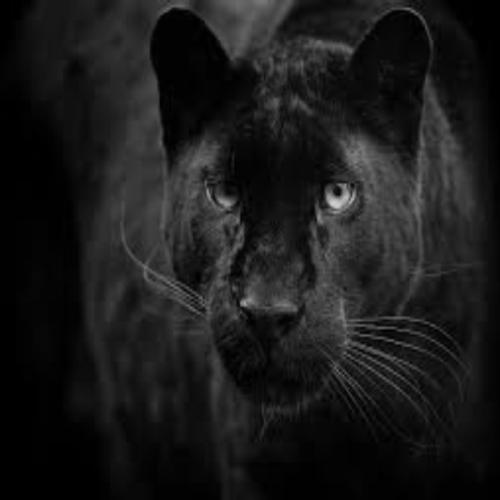panther-endangered: (122, 4, 486, 488)
